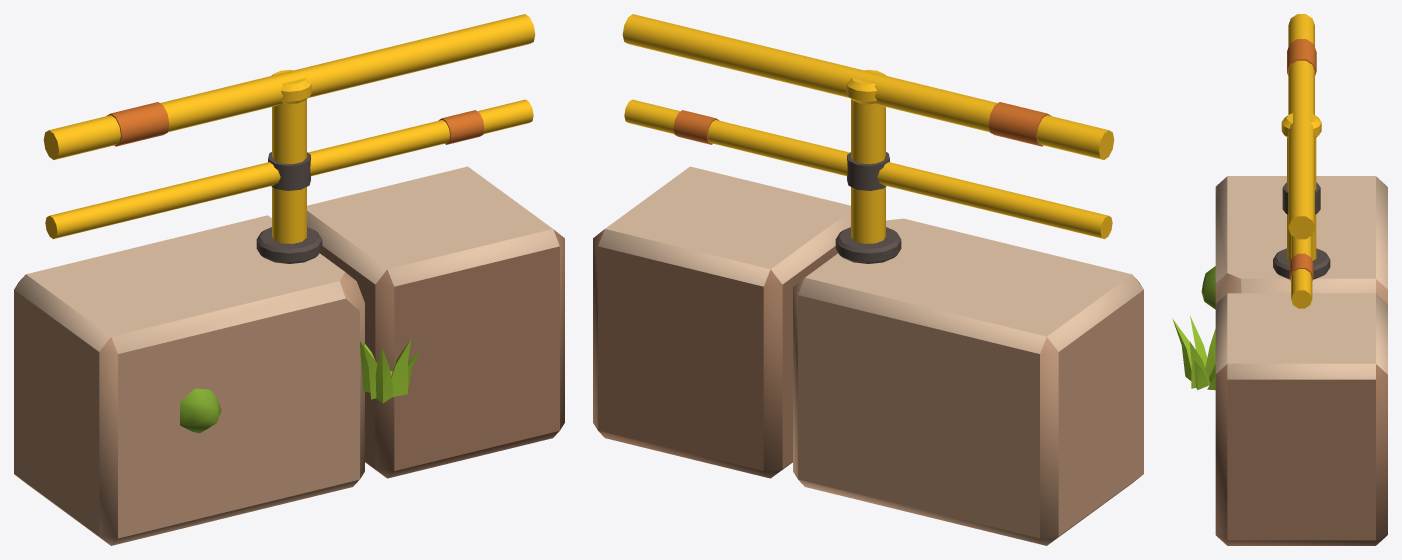
File: barrier_low__upper.glb
The picture shows the model from 3 angles, left to right: view 1: azimuth 30°, elevation 25°; view 2: azimuth 150°, elevation 25°; view 3: azimuth 270°, elevation 25°; orthographic projection. The views are drawn at different scales.
Visible parts, largest first — view 1: barrier_low; view 2: barrier_low; view 3: barrier_low.
Part boxes in pixels (bbox=[...]): barrier_low: bbox=[14, 14, 564, 545]; barrier_low: bbox=[593, 14, 1143, 545]; barrier_low: bbox=[1172, 14, 1387, 545].
Bounding box in the file's own units: 1 × 0.7795 × 0.4506.
